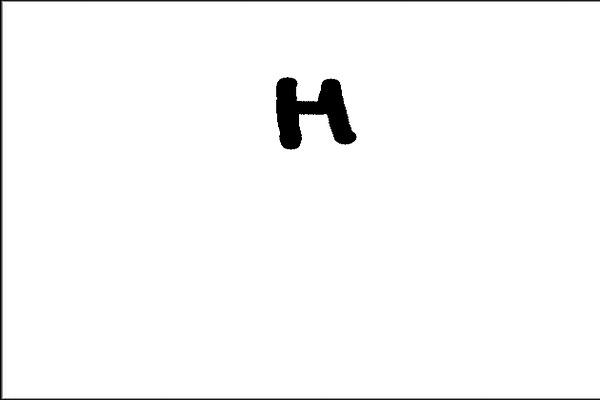H: (267, 66, 361, 153)
